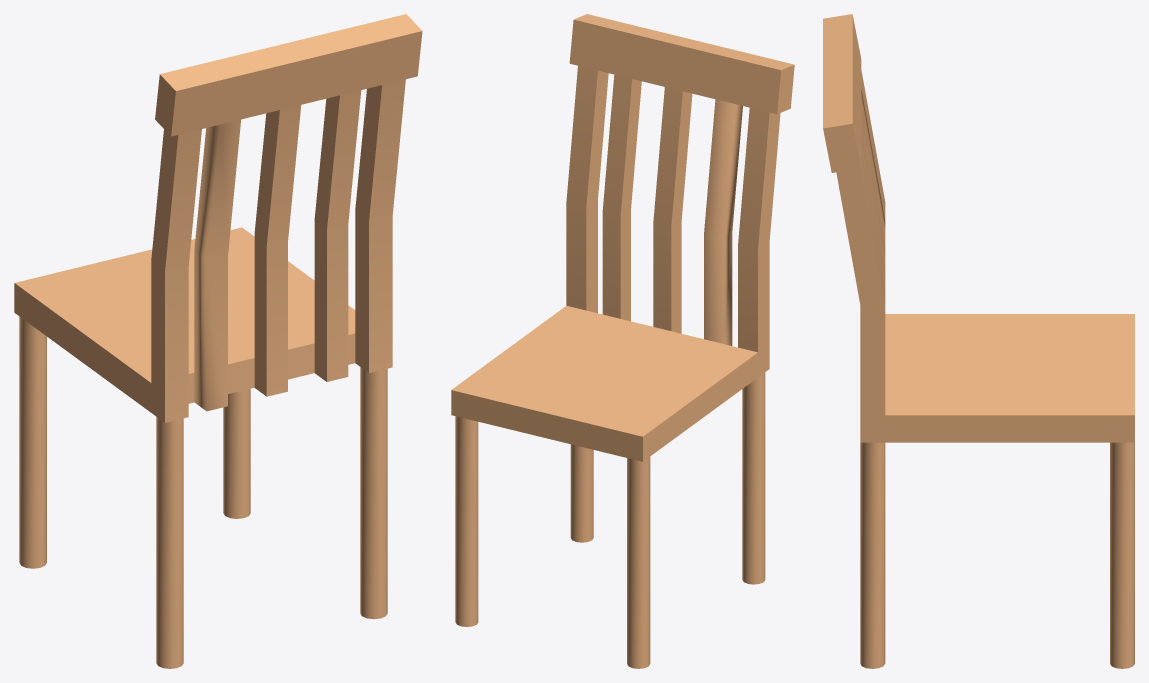
Rendered from chair.glb.
3 renders of one model, left to right at view 1: azimuth 30°, elevation 25°; view 2: azimuth 150°, elevation 25°; view 3: azimuth 270°, elevation 25°, orthographic. The views are drawn at different scales.
Parts seen in each view (by area): view 1: Root; view 2: Root; view 3: Root.
Part boxes in pixels (box(x1,y1,x2,y2)): Root: box(14, 14, 422, 668); Root: box(451, 14, 794, 668); Root: box(823, 14, 1134, 668).
Size of the model in its own units: 0.52 by 1.21 by 0.6244.
